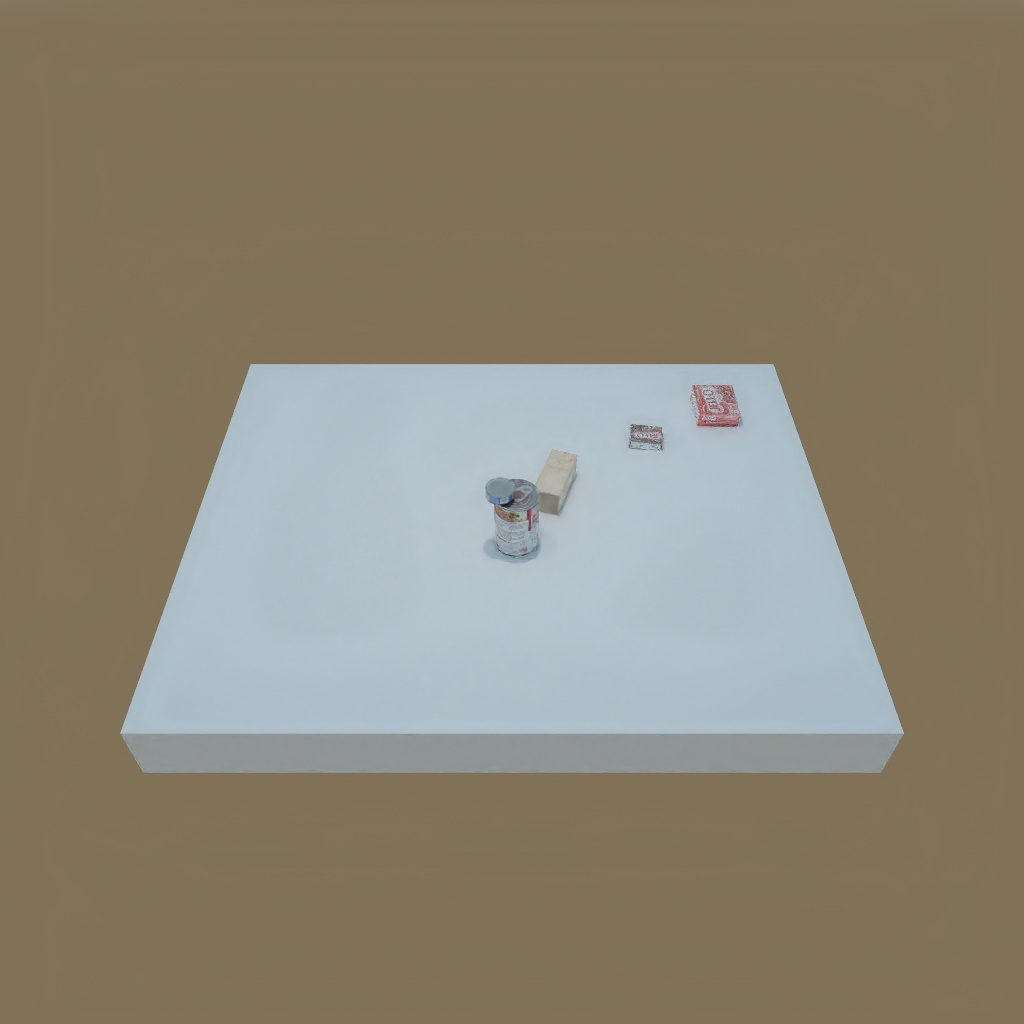gelatin_box: (687, 383, 753, 429)
pudding_box: (624, 419, 670, 455)
tomato_soup_can: (484, 471, 545, 561)
wood_block: (533, 449, 577, 511)
